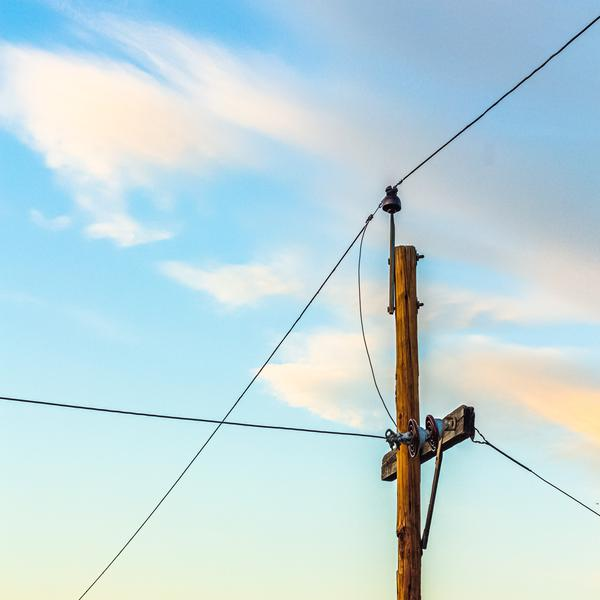utility_pole: (347, 168, 485, 499)
